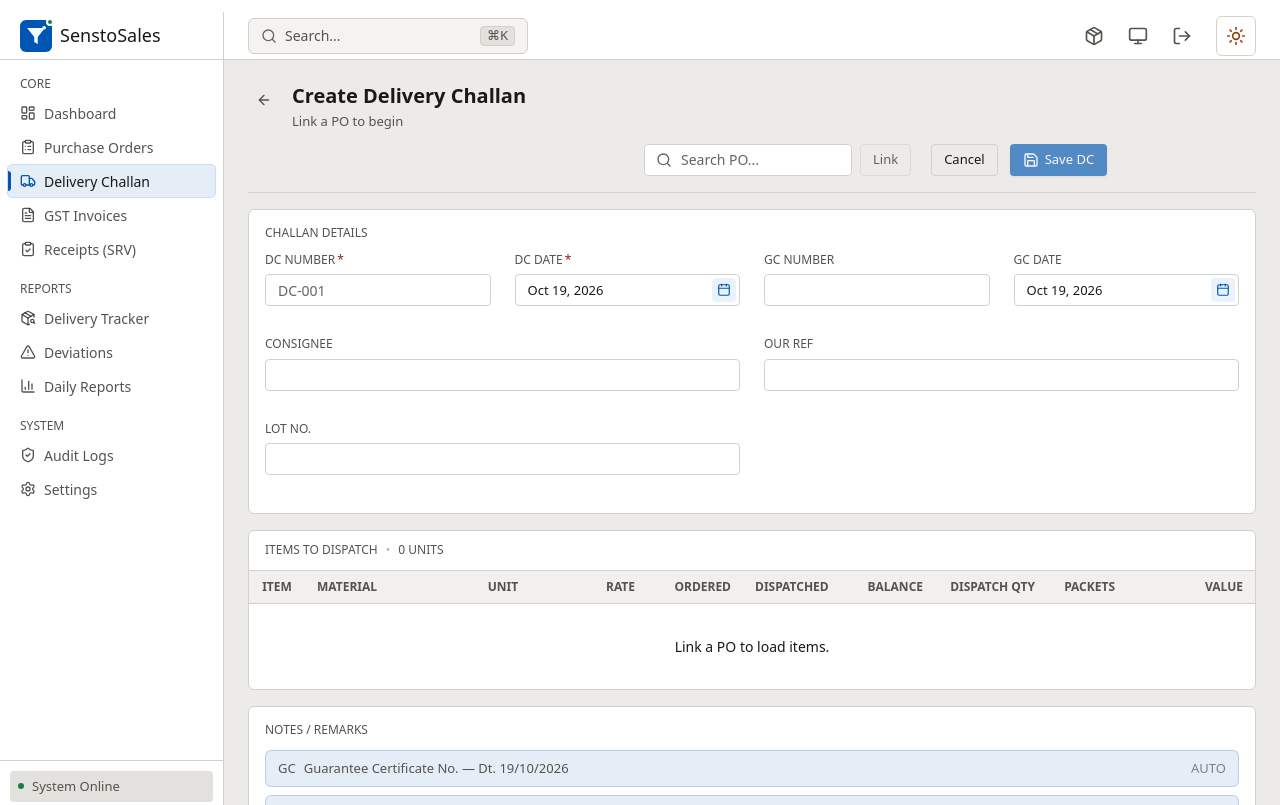
Test case: /dc/create (SPEC-18 PR 2) › links a PO picked from the search
Expected: the text "Link a PO to begin" is shown, [292,112,403,130]
Expected: the text "Link a PO to load items." is shown, [249,604,1255,689]
Type "41000" into the dropdown labelled "Search PO...".
click(748, 160); type("41000")  # box [644,144,852,176]
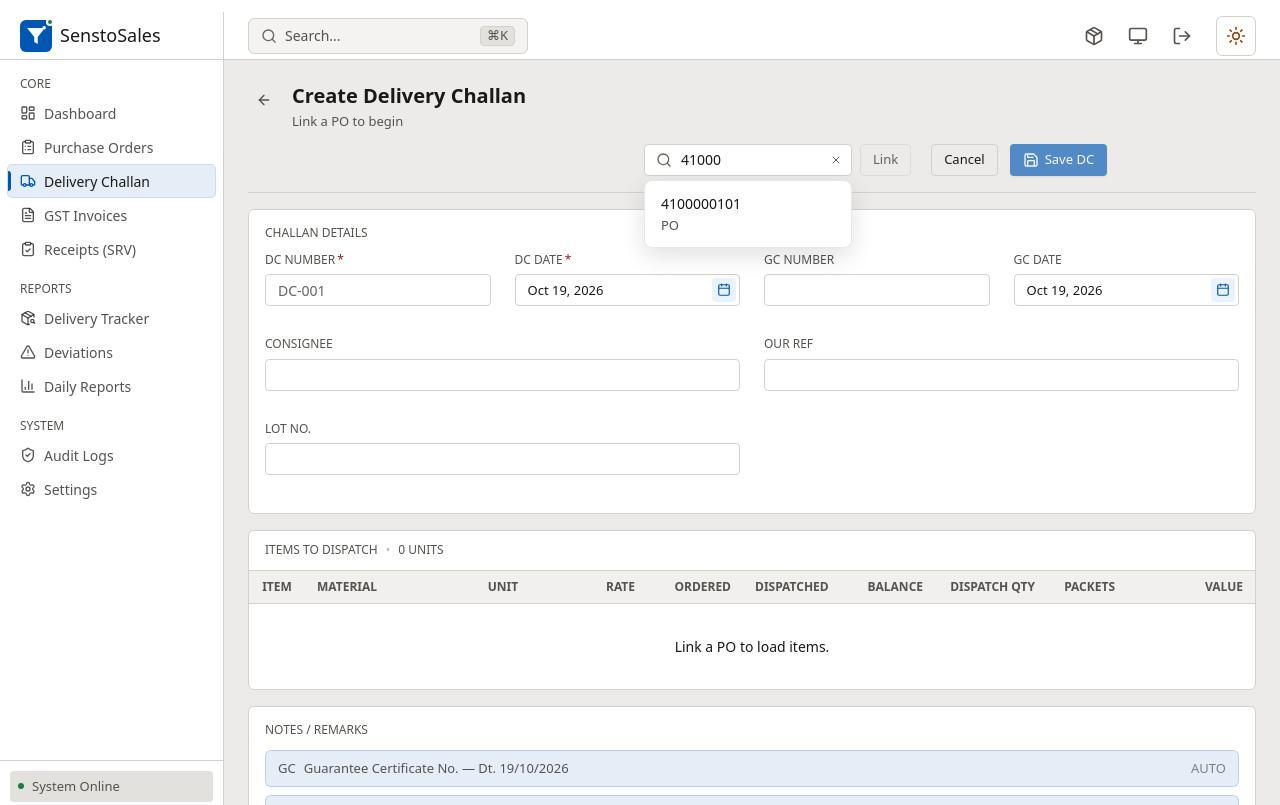
Press the mouse on the option "4100000101 PO" at [701, 214], box [661,194,741,234]
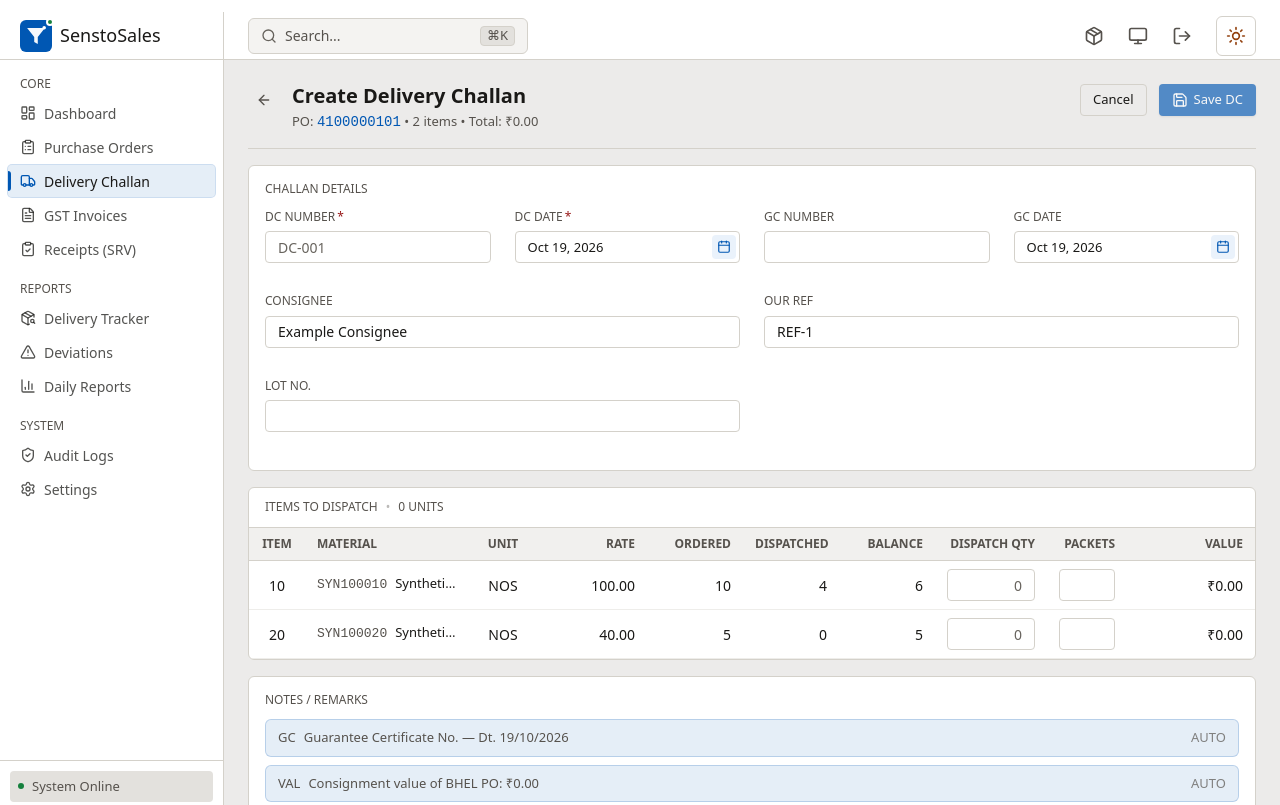
Result: the text "SYN100020" is shown at [317,624,387,644]
